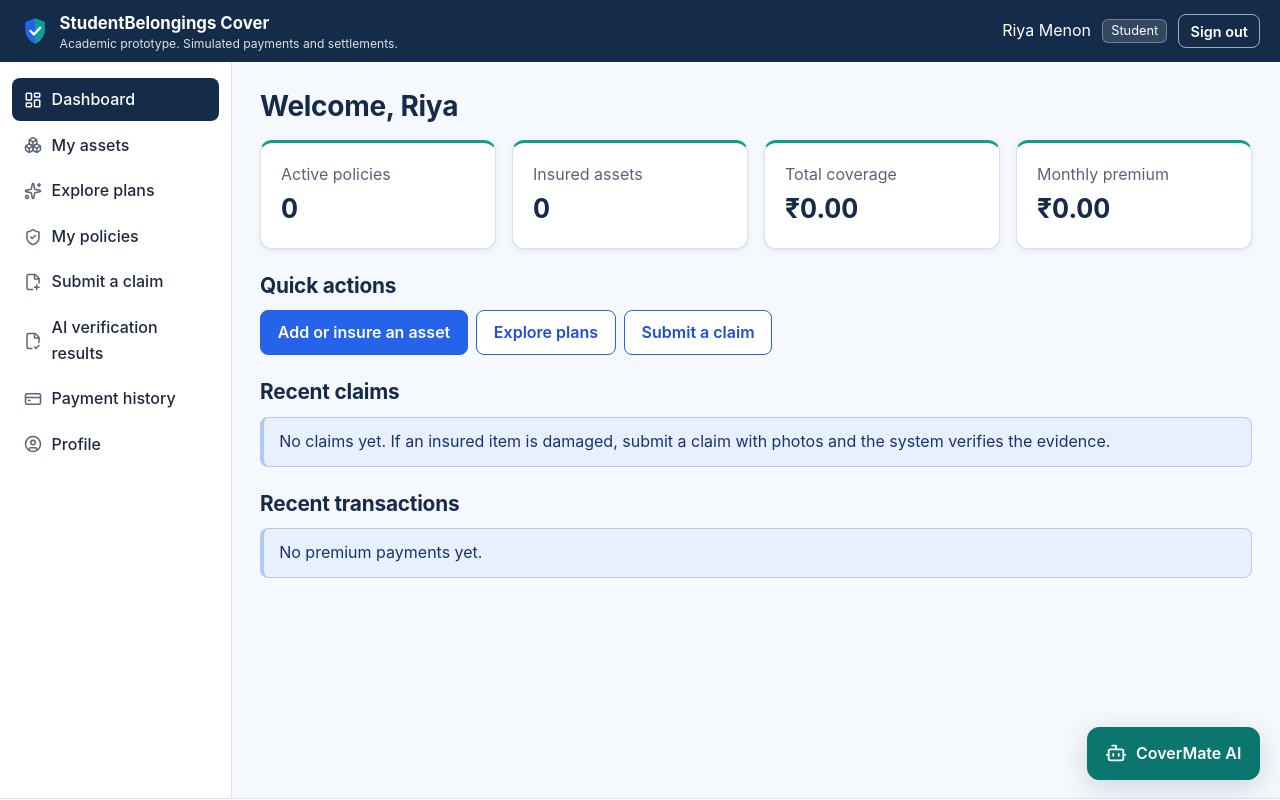
Test: CoverMate AI widget › opens, shows the welcome message and suggestions, streams an answer from the backend, and keeps the conversation id
Later steps or results of the test are not shown.
Click the button with aria-label "Open CoverMate AI chat": (1173, 753) [1087,727,1260,780]
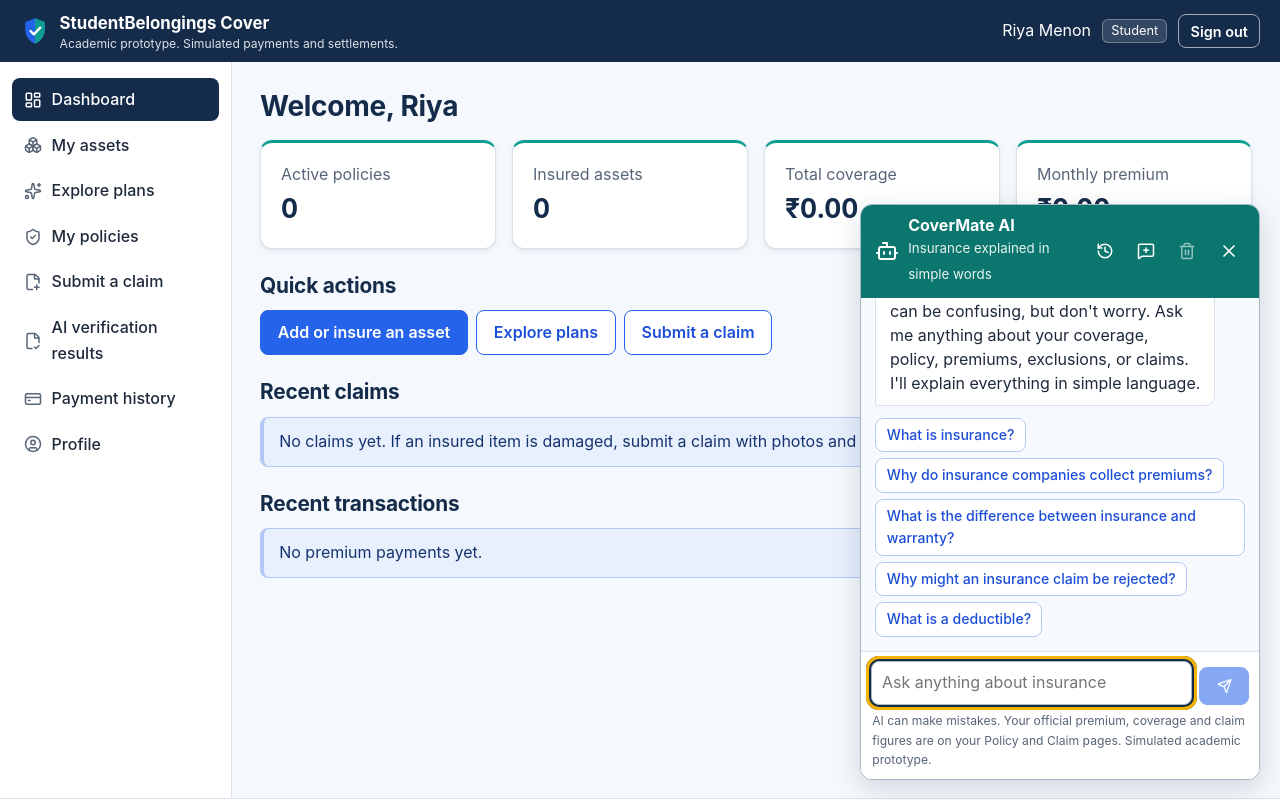
expect the dialog named "CoverMate AI chat" is shown: met, box [860,204,1260,780]
expect the text "Hi! I'm CoverMate AI" is shown: met, box [890,298,1200,393]
Click the button "What is insurance?": (951, 435) [875,418,1026,452]
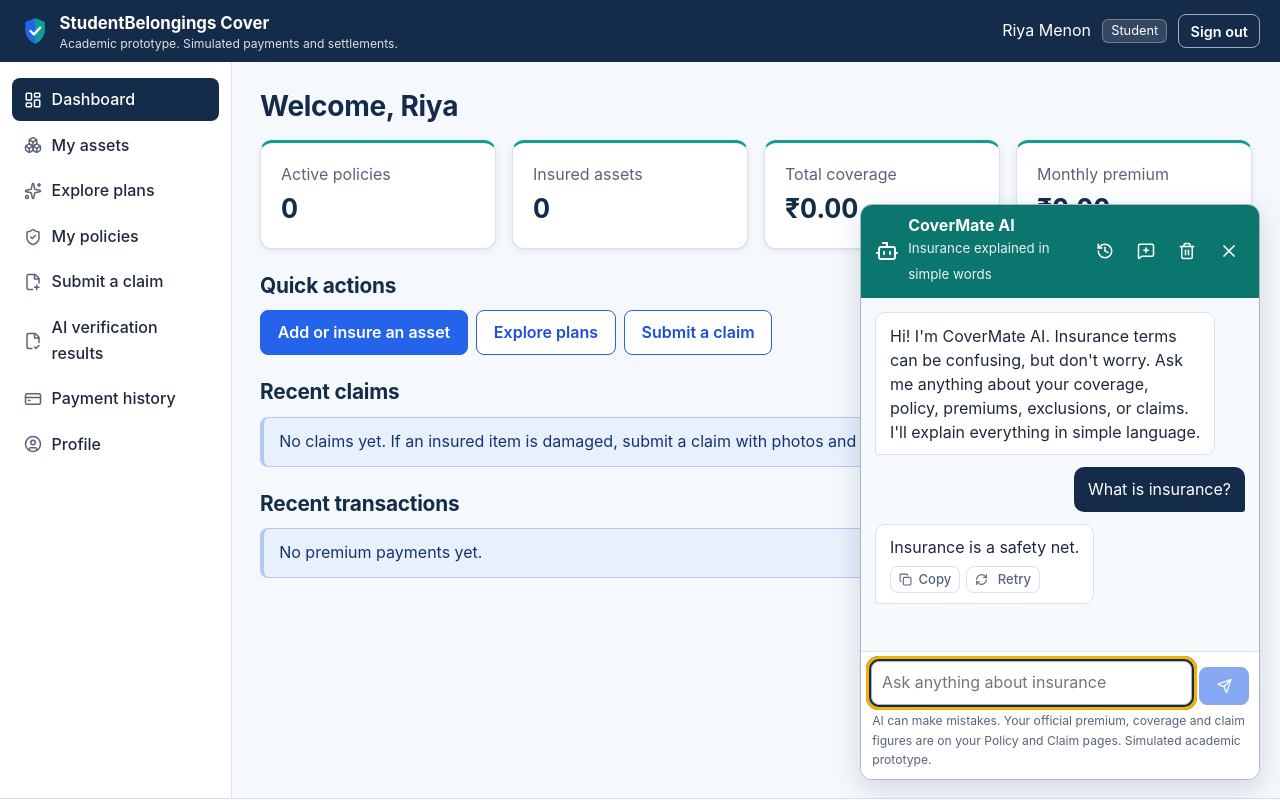
expect the text "Insurance is a safety net." is shown: met, box [890,537,1079,557]
